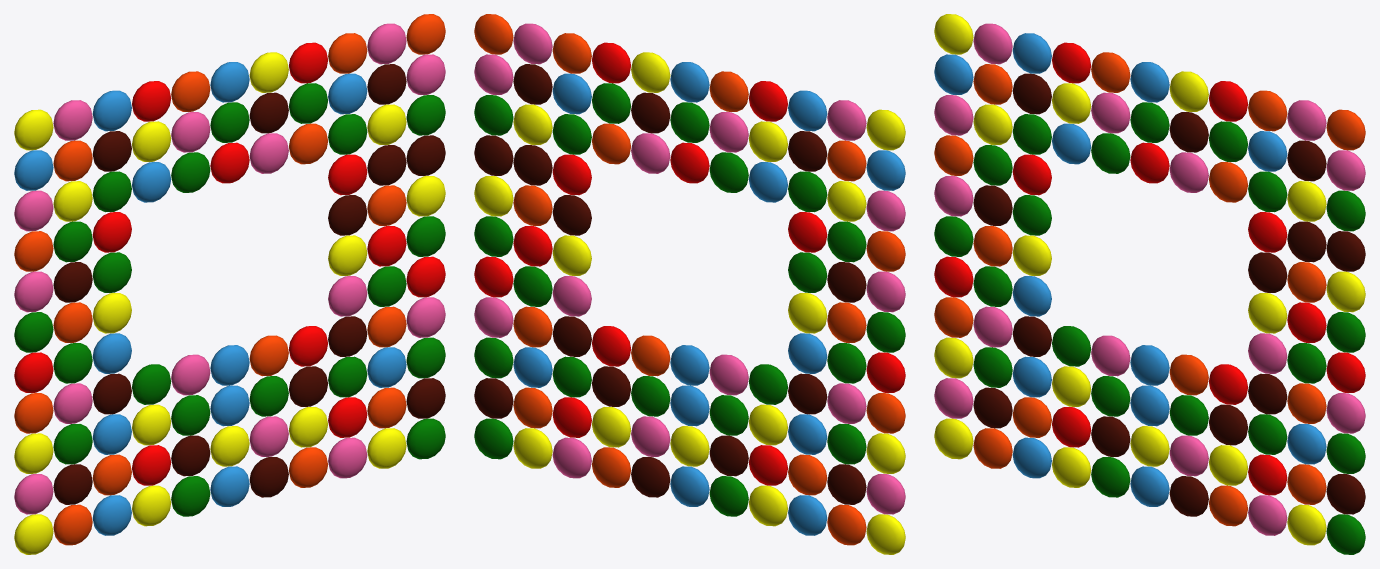
The model's file is wall_marble_02.FBX.
3 views of the same model, side by side, from view 1: azimuth 30°, elevation 25°; view 2: azimuth 150°, elevation 25°; view 3: azimuth 330°, elevation 25° (orthographic).
Parts seen in each view (by area): view 1: wall_marble_02; view 2: wall_marble_02; view 3: wall_marble_02.
Boxes of the visible parts, bbox=[...] form: wall_marble_02: bbox=[14, 14, 445, 554]; wall_marble_02: bbox=[474, 14, 905, 554]; wall_marble_02: bbox=[934, 14, 1365, 554].
Size of the model in its own units: 85.87 by 84.74 by 3.54.
